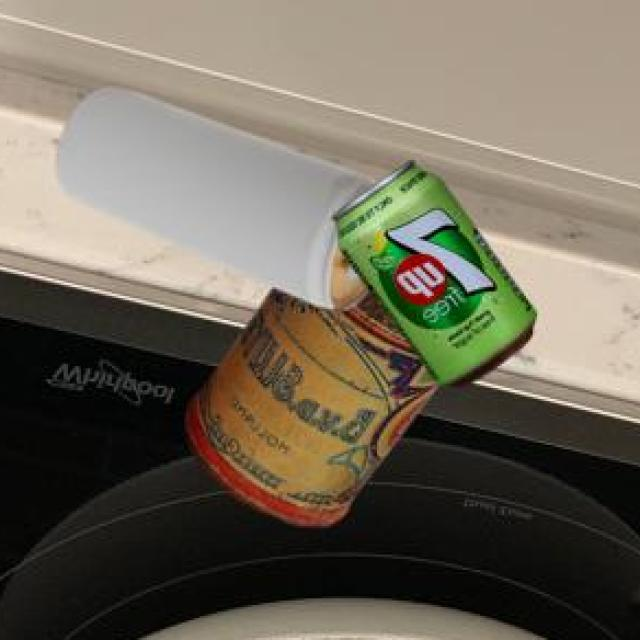logam: (54, 89, 374, 312), (181, 290, 435, 529), (330, 165, 534, 389)
